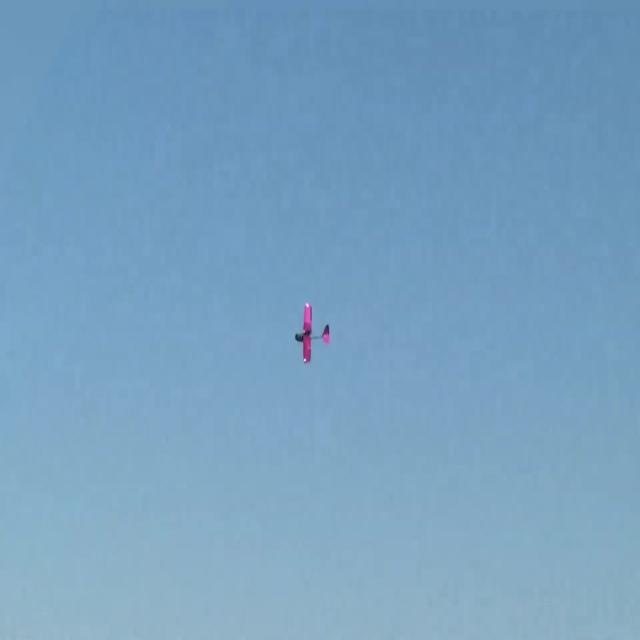iha: (295, 302, 330, 364)
